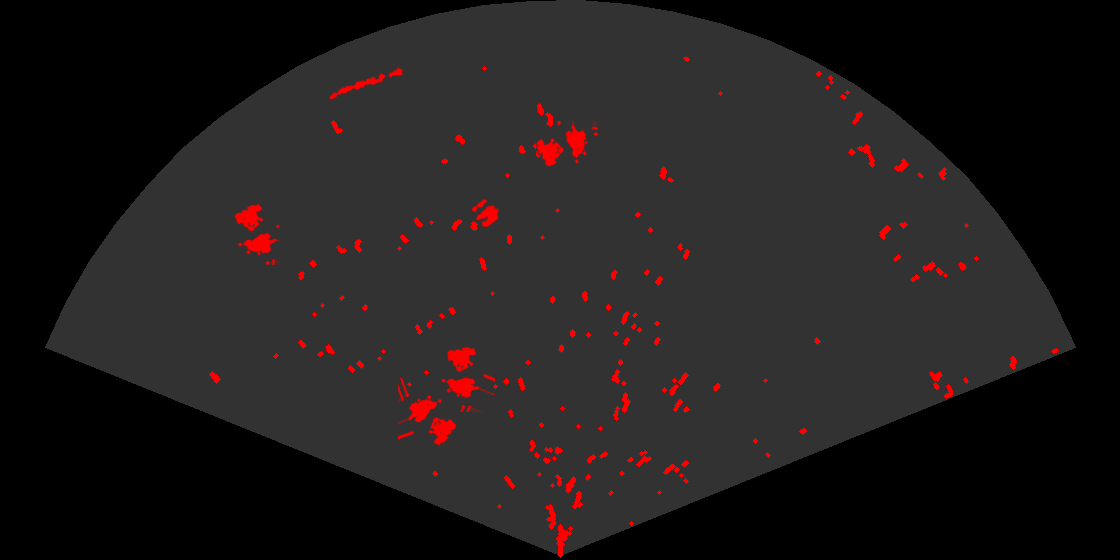ball: (470, 197, 501, 229)
cage: (398, 378, 458, 447), (440, 345, 495, 412), (534, 121, 598, 168), (233, 202, 279, 265)
chain: (327, 66, 405, 101)
